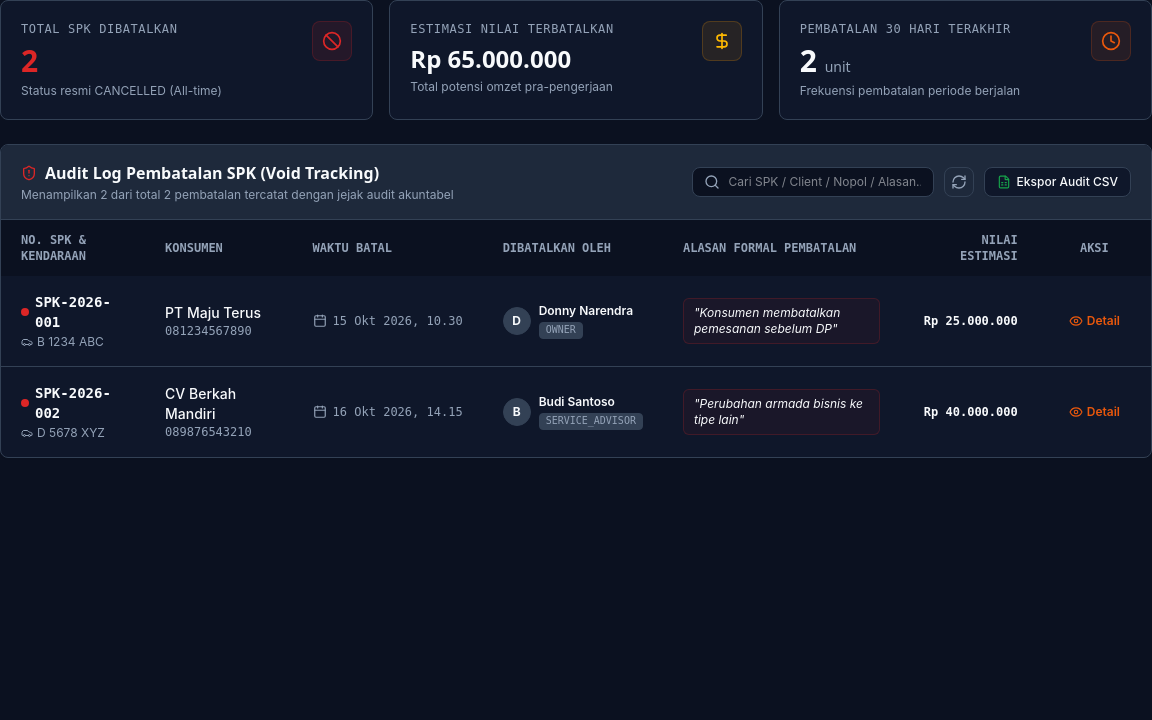
Component: CancelledSpkAuditLog › opens and closes the detail modal when clicking Detail action button
The image size is (1152, 720).
Click the button titled "Lihat Detail Audit Pembatalan" in the row of "PT Maju Terus". click: (1094, 321)
box: left=1058, top=308, right=1131, bottom=334
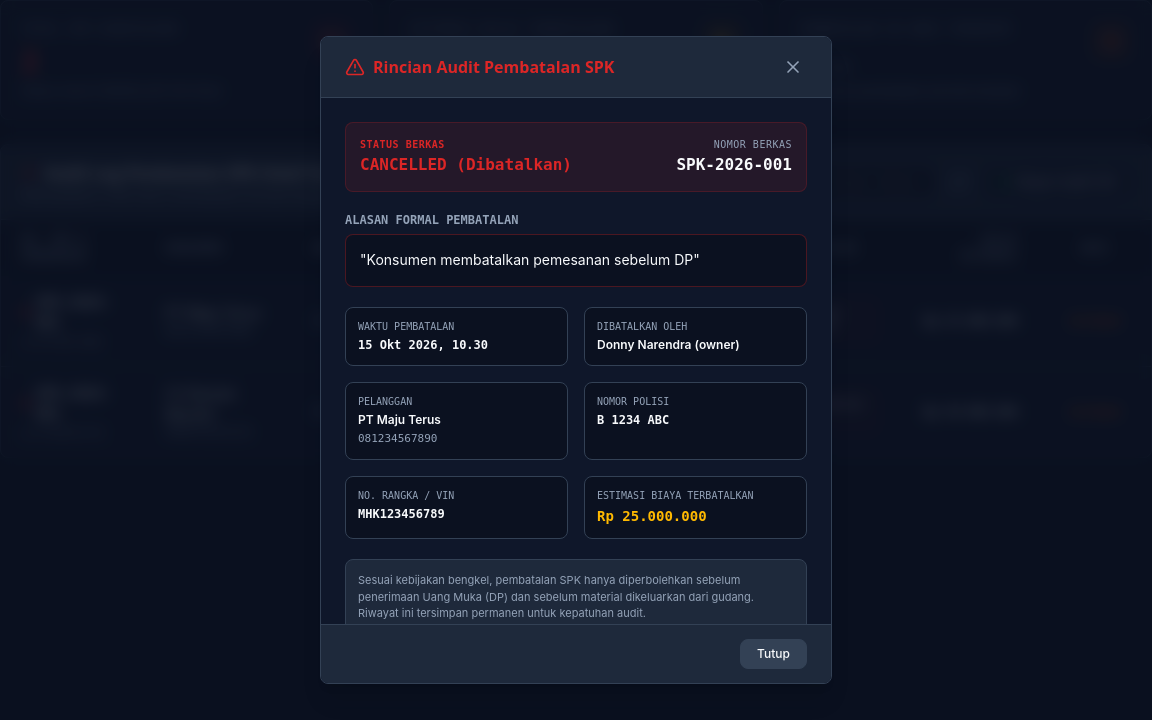
Now the text "Rincian Audit Pembatalan SPK" is shown, box left=373, top=55, right=614, bottom=79
Now the text "CANCELLED (Dibatalkan)" is shown, box left=360, top=155, right=572, bottom=174
Now the text "MHK123456789" is shown, box left=358, top=507, right=445, bottom=521
# Close modal
Click the button "Tutup". click: (774, 654)
box: left=740, top=639, right=807, bottom=669
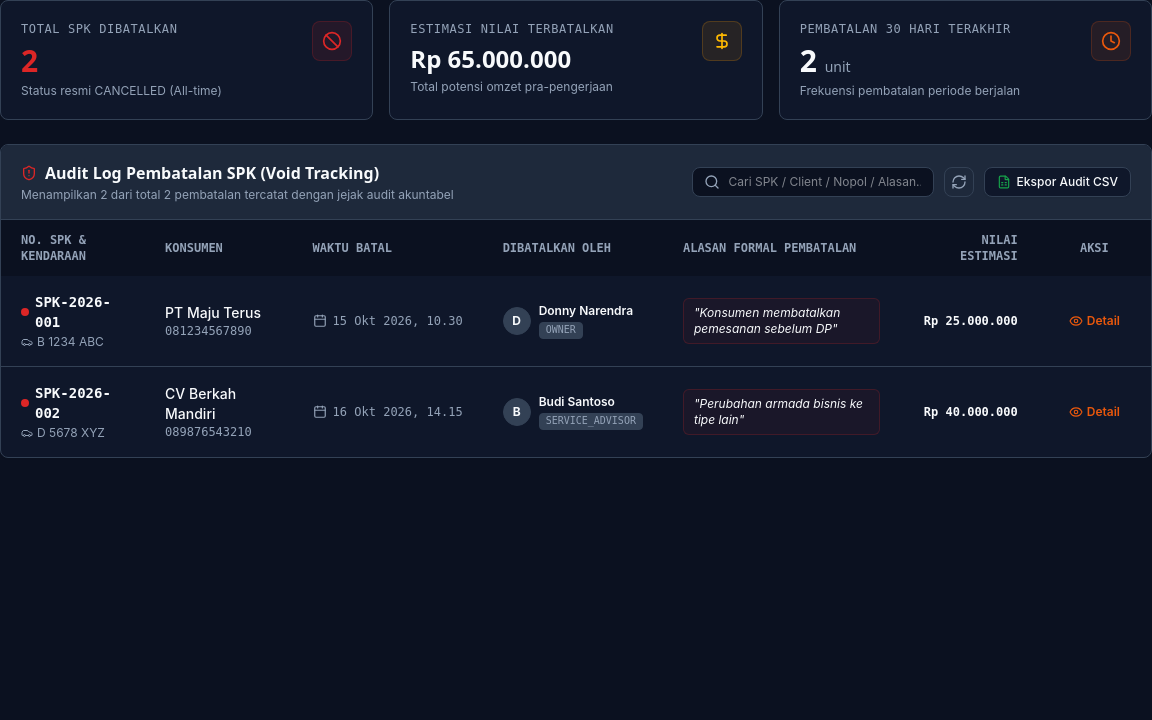
Now the text "Rincian Audit Pembatalan SPK" is gone
